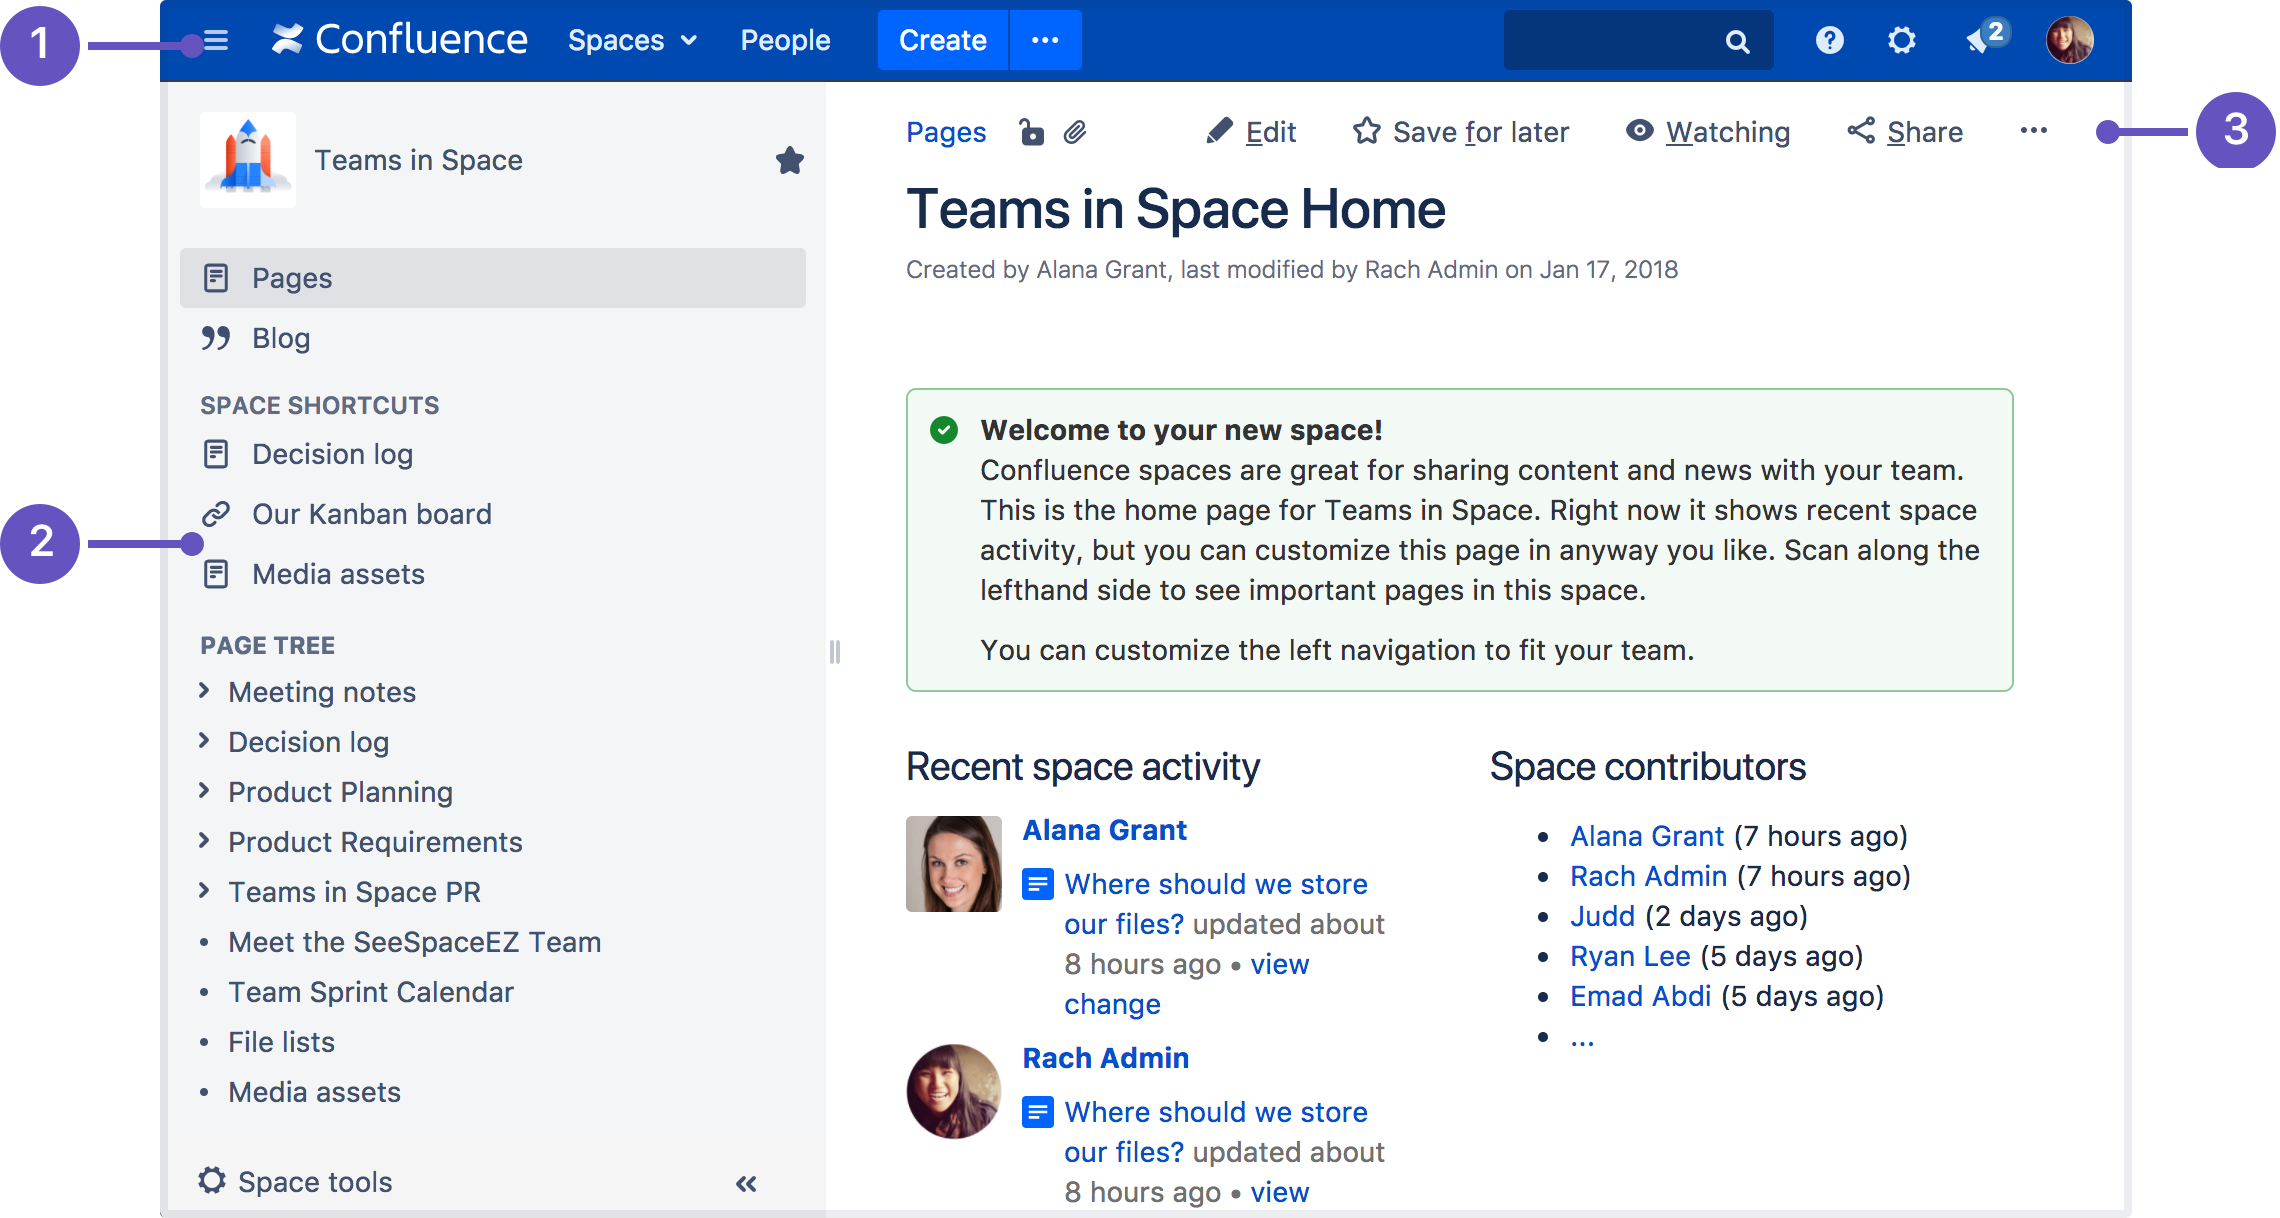button_create: (876, 5, 1010, 69)
search_box: (1503, 11, 1773, 75)
